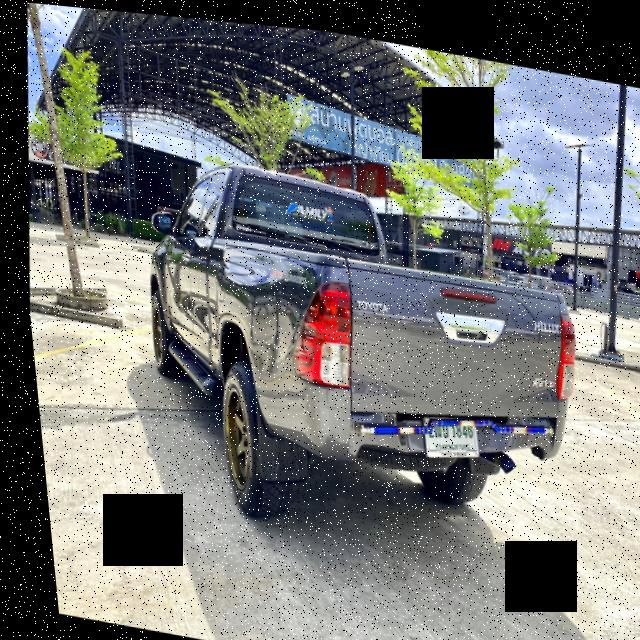text: (418, 411, 466, 442)
